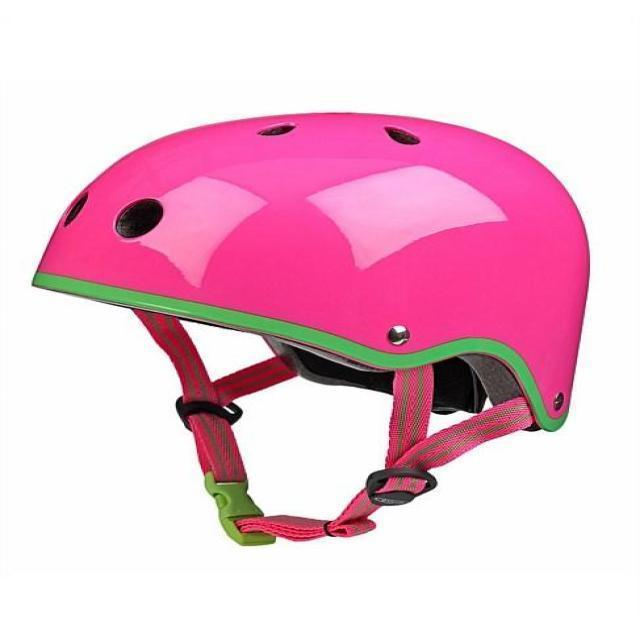helmet: (21, 60, 604, 462)
